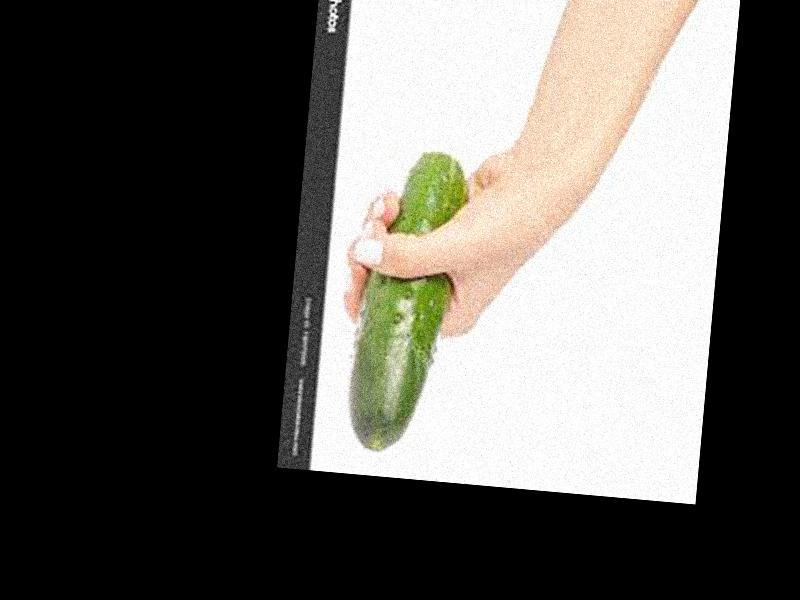Cucumber: (343, 148, 468, 460)
